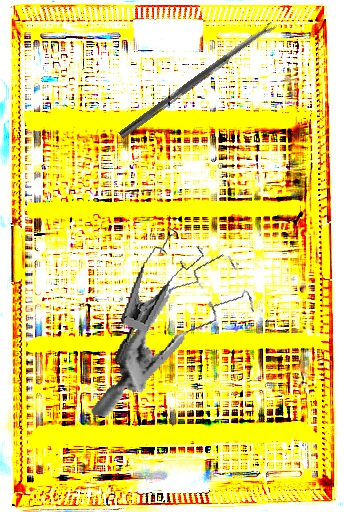Speculum: (90, 233, 265, 445), (112, 221, 208, 375)
Surgical Spoon: (118, 21, 277, 140)
